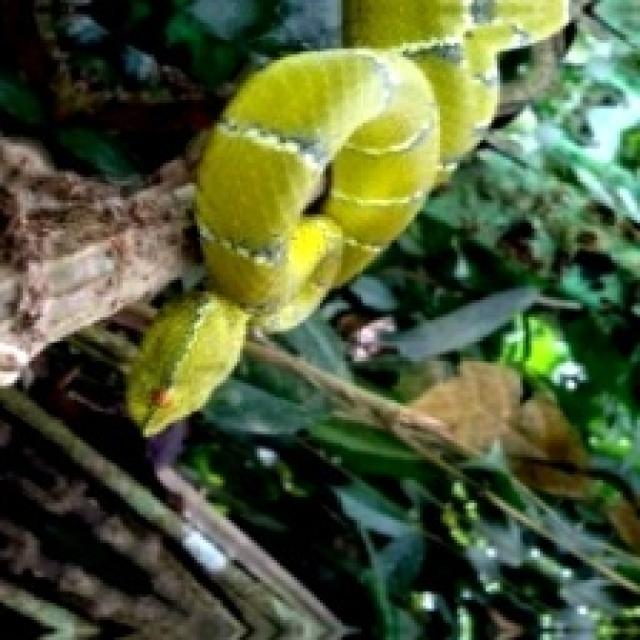north ph temple pitviper: (126, 0, 566, 434)
